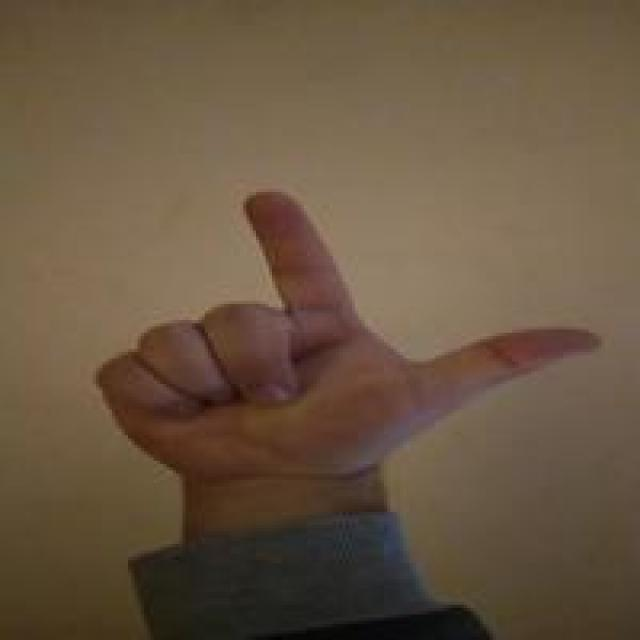L: (88, 175, 600, 494)
